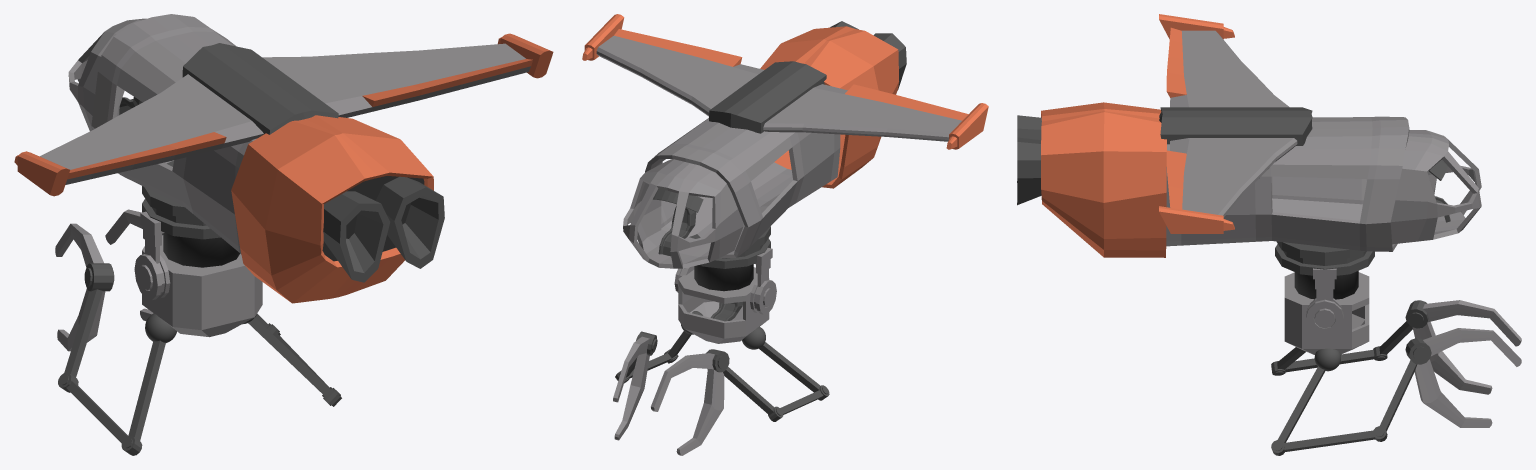
Rendered from SpaceShipW_ARM.fbx.
The picture shows the model from 3 angles, left to right: view 1: azimuth 30°, elevation 25°; view 2: azimuth 150°, elevation 25°; view 3: azimuth 270°, elevation 25°; orthographic projection. The views are drawn at different scales.
Visible parts, largest first — view 1: Wings, Engine, StarterFrame, ArmRoot, Cube.007, StarterFrameDoor, Cockpit, Cube.008, Cylinder.002, Cylinder.003; view 2: Wings, StarterFrame, Cockpit, Engine, ArmRoot, Cube.007, StarterFrameDoor, Cube.008, Cylinder.003, Cylinder.002, Cockpit.001; view 3: Wings, Engine, StarterFrame, ArmRoot, Cockpit, Cube.007, Cylinder.002, Cube.008, Cylinder.003.
Part boxes in pixels (x1=…): Wings: x1=14, y1=33, x2=553, y2=196; Engine: x1=231, y1=115, x2=444, y2=303; StarterFrame: x1=91, y1=14, x2=256, y2=253; ArmRoot: x1=55, y1=209, x2=341, y2=455; Cube.007: x1=142, y1=235, x2=262, y2=337; StarterFrameDoor: x1=183, y1=146, x2=238, y2=246; Cockpit: x1=68, y1=18, x2=146, y2=131; Cube.008: x1=134, y1=211, x2=170, y2=300; Cylinder.002: x1=142, y1=161, x2=220, y2=239; Cylinder.003: x1=163, y1=233, x2=239, y2=267; Wings: x1=582, y1=14, x2=988, y2=149; StarterFrame: x1=645, y1=118, x2=840, y2=258; Cockpit: x1=623, y1=159, x2=743, y2=268; Engine: x1=760, y1=21, x2=906, y2=188; ArmRoot: x1=613, y1=311, x2=829, y2=455; Cube.007: x1=678, y1=267, x2=769, y2=343; StarterFrameDoor: x1=797, y1=132, x2=834, y2=198; Cube.008: x1=674, y1=248, x2=776, y2=314; Cylinder.003: x1=694, y1=264, x2=753, y2=291; Cylinder.002: x1=689, y1=226, x2=770, y2=268; Cockpit.001: x1=710, y1=302, x2=742, y2=321; Wings: x1=1159, y1=14, x2=1312, y2=233; Engine: x1=1017, y1=102, x2=1166, y2=257; StarterFrame: x1=1166, y1=116, x2=1409, y2=251; ArmRoot: x1=1271, y1=300, x2=1521, y2=455; Cockpit: x1=1390, y1=130, x2=1481, y2=244; Cube.007: x1=1284, y1=272, x2=1369, y2=354; Cylinder.002: x1=1275, y1=241, x2=1374, y2=275; Cube.008: x1=1306, y1=268, x2=1343, y2=335; Cylinder.003: x1=1294, y1=271, x2=1358, y2=299.
Size of the model in its own units: 1446 by 1043 by 1563.
